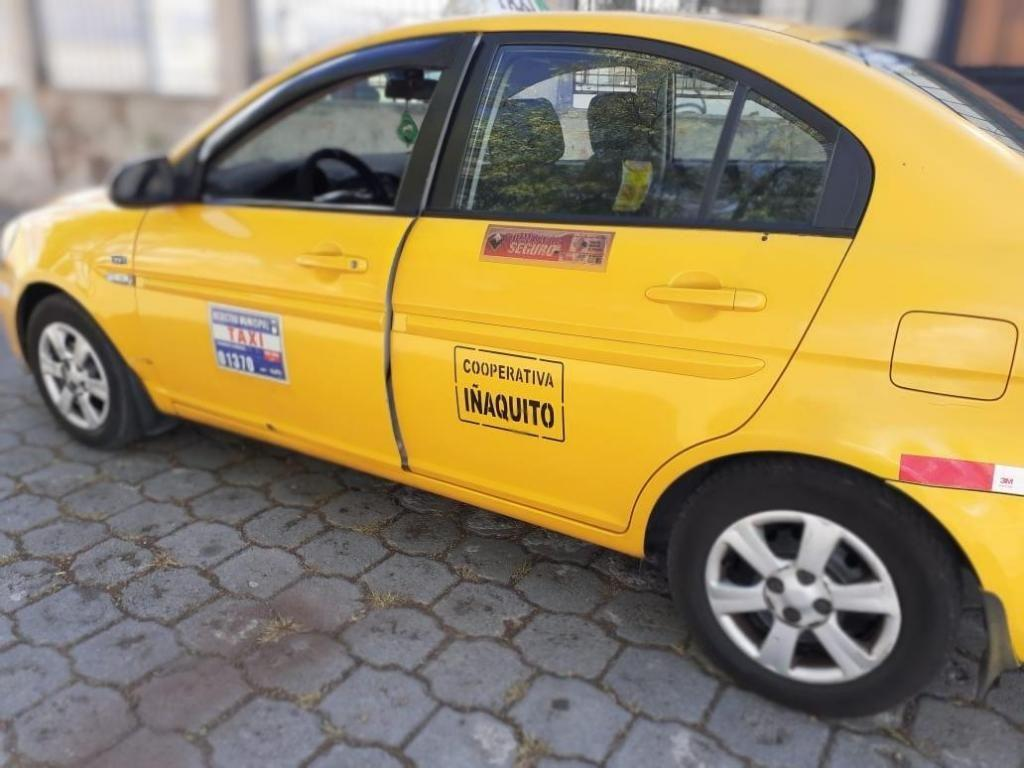taxi: (1, 1, 1024, 724)
